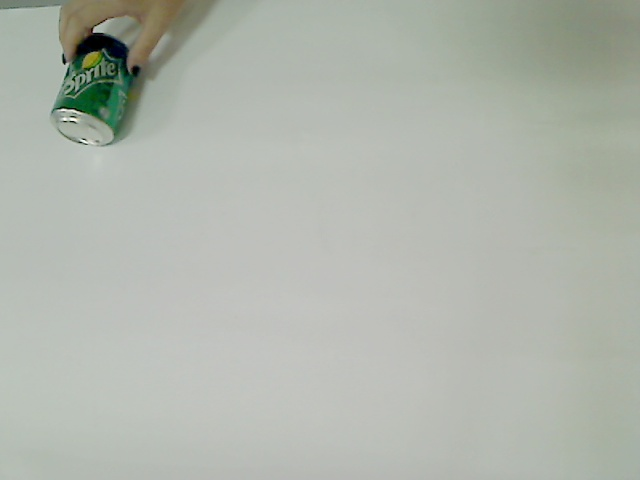can: (47, 30, 142, 148)
